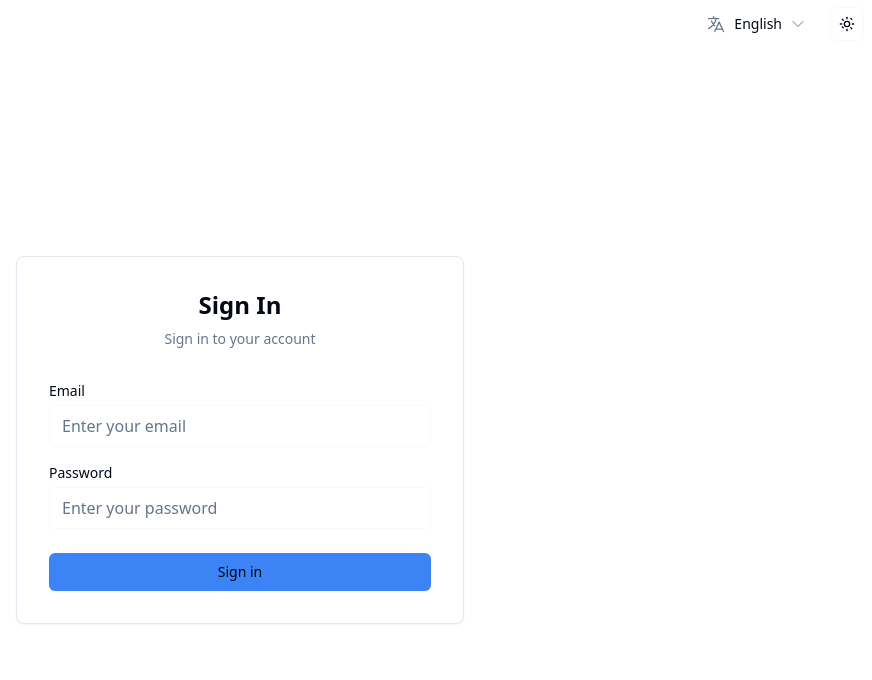
it: LoginPage › form submission › should handle network errors gracefully
Type "user@example.com" into the field labelled "Email" at (240, 426), box [49,405,431,447]
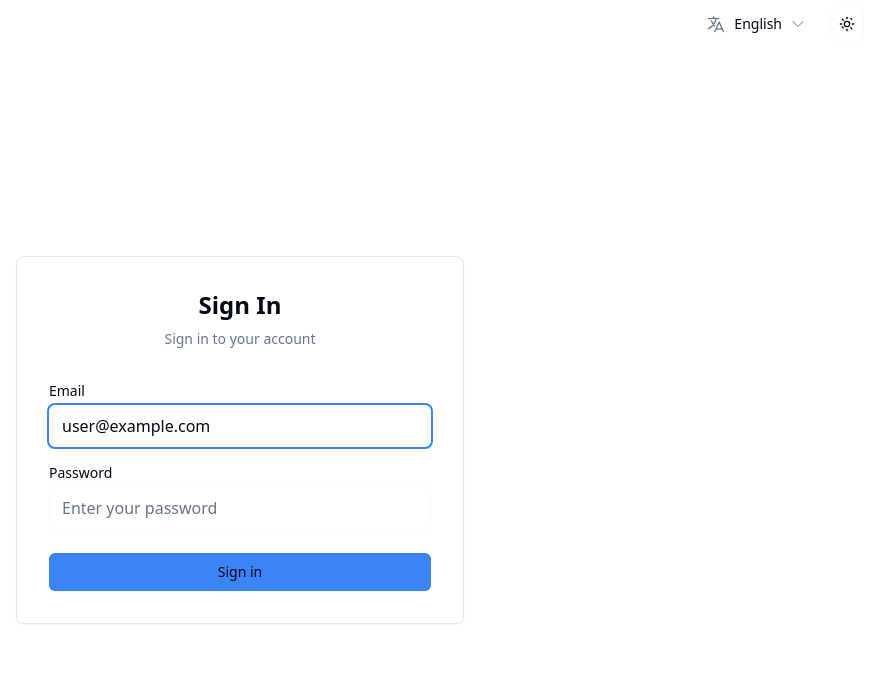
Type "password123" into the password field labelled "Password" at (240, 508), box [49,487,431,529]
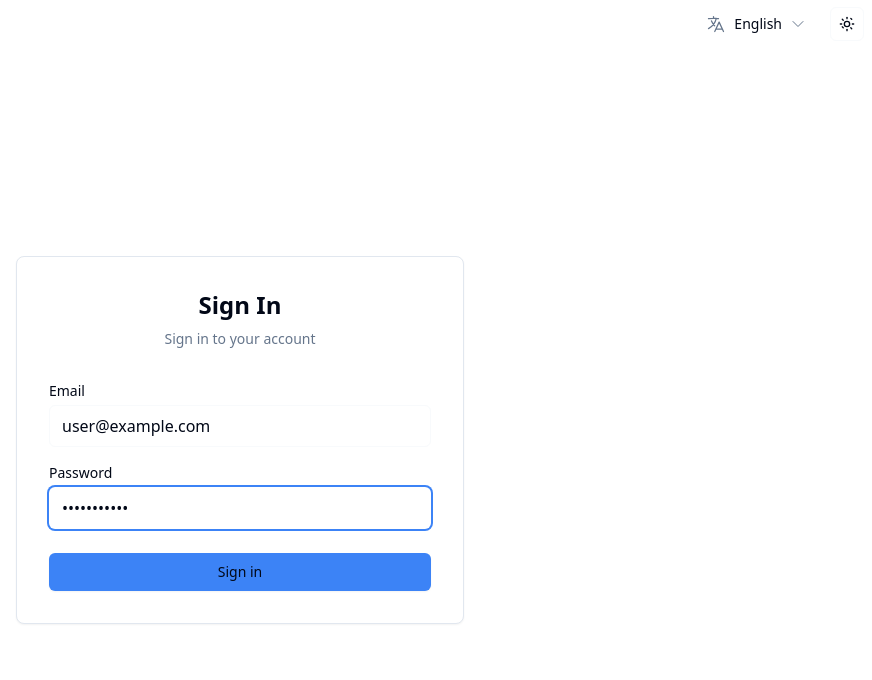
Click the button "Sign in" at (240, 572), box [49,553,431,591]
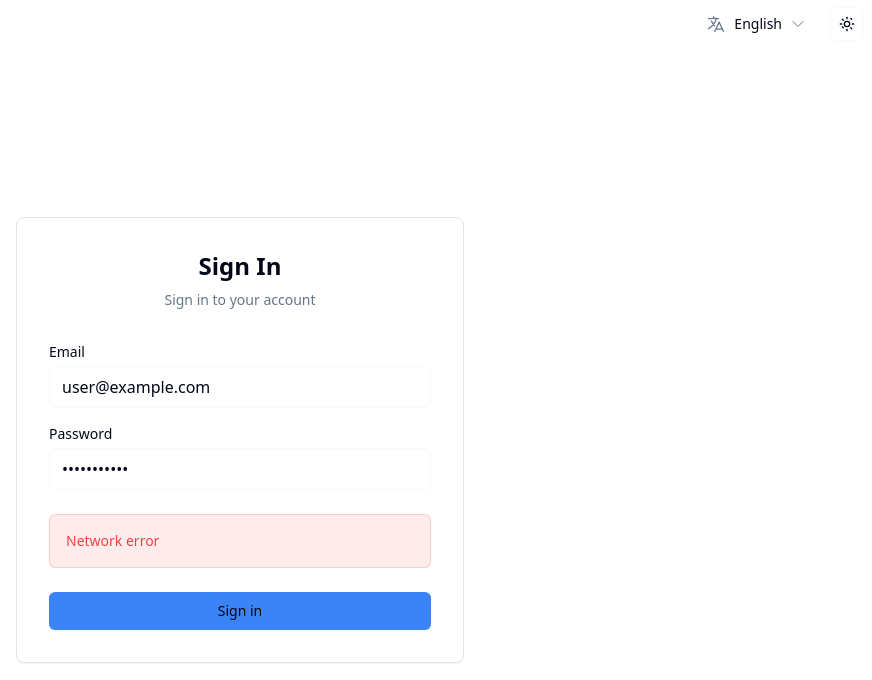
Expected: the text "Network error" is shown, [66,531,159,550]
